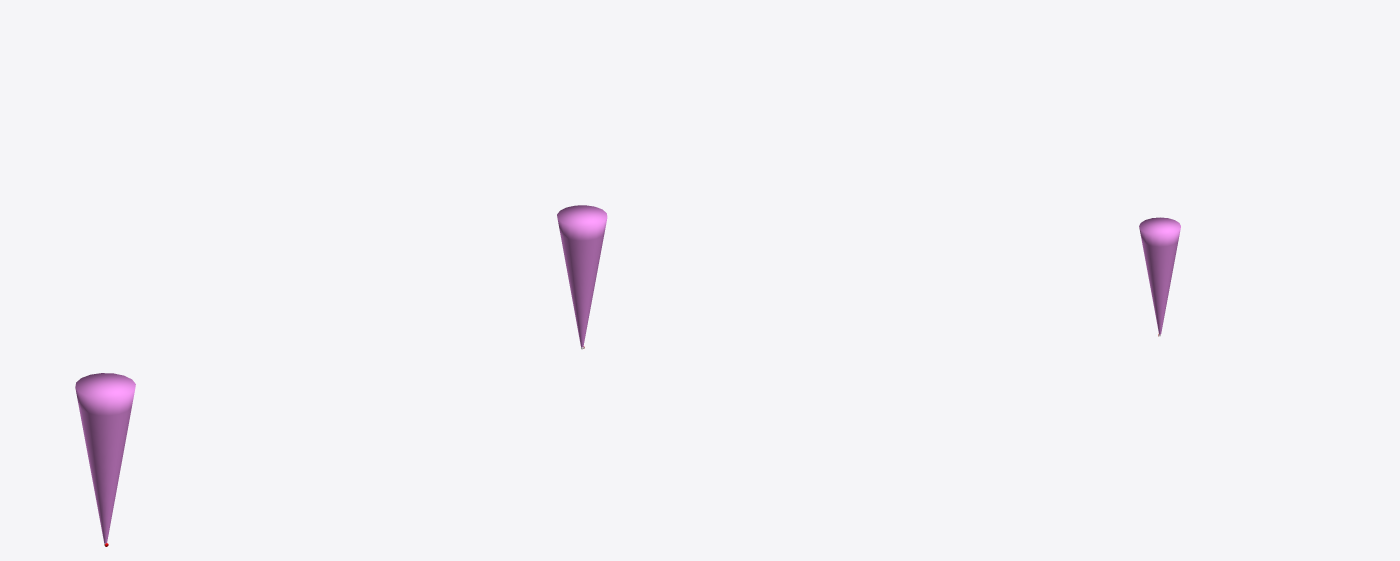
File: MoverLight--RTP-SplitMesh-V3.fbx
The picture shows the model from 3 angles, left to right: view 1: azimuth 30°, elevation 25°; view 2: azimuth 150°, elevation 25°; view 3: azimuth 270°, elevation 25°; orthographic projection. The views are drawn at different scales.
Visible parts, largest first — view 1: MoverLightMesh-ProjectionPassMesh-V3; view 2: MoverLightMesh-ProjectionPassMesh-V3; view 3: MoverLightMesh-ProjectionPassMesh-V3.
Boxes of the visible parts, <box> form: MoverLightMesh-ProjectionPassMesh-V3: <box>75,373,135,543</box>; MoverLightMesh-ProjectionPassMesh-V3: <box>557,205,607,347</box>; MoverLightMesh-ProjectionPassMesh-V3: <box>1139,217,1180,334</box>.
Bounding box in the file's own units: 30.08 × 30.05 × 32.92.
